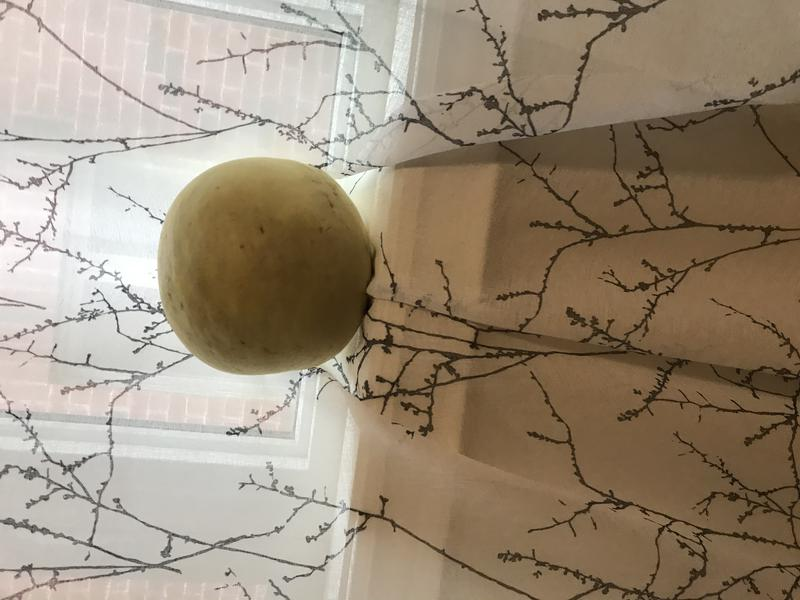honeydew: (147, 152, 387, 382)
